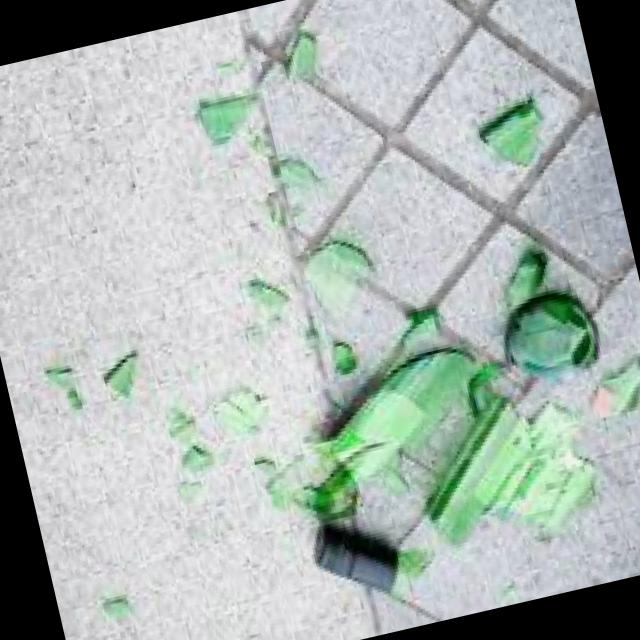PecahanKaca: (239, 232, 640, 640), (492, 285, 604, 392), (472, 97, 554, 179)
